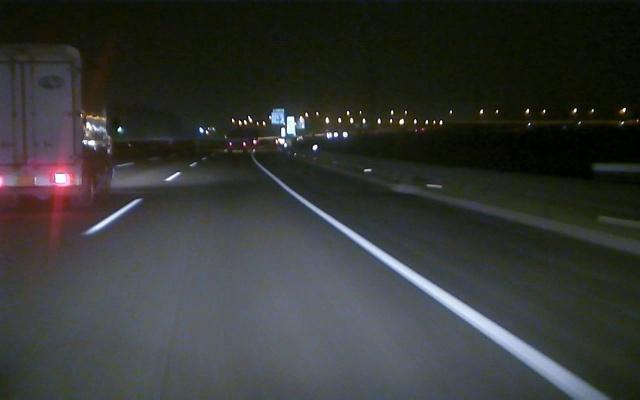lane: (262, 165, 609, 397), (81, 171, 178, 236)
